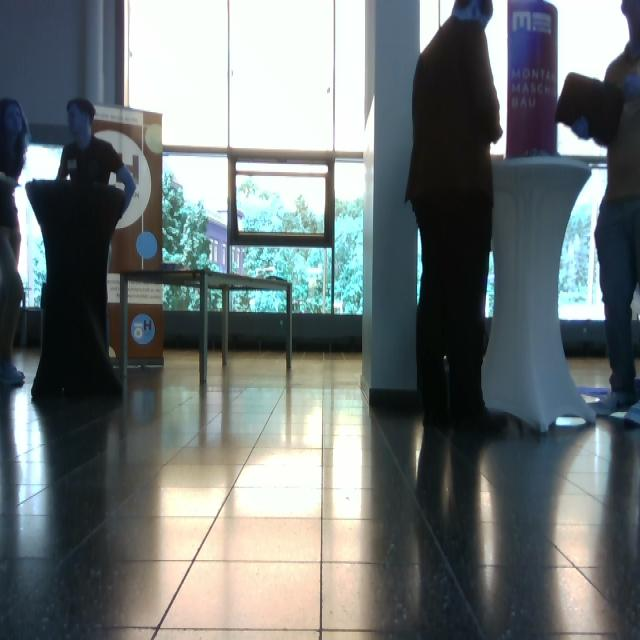light bulb: (555, 72, 624, 146)
person: (405, 1, 509, 433), (555, 1, 640, 416), (1, 97, 32, 386)
pillar: (361, 1, 421, 405)
tiled floor: (2, 345, 639, 637)
window: (121, 1, 368, 318), (417, 1, 633, 321)
